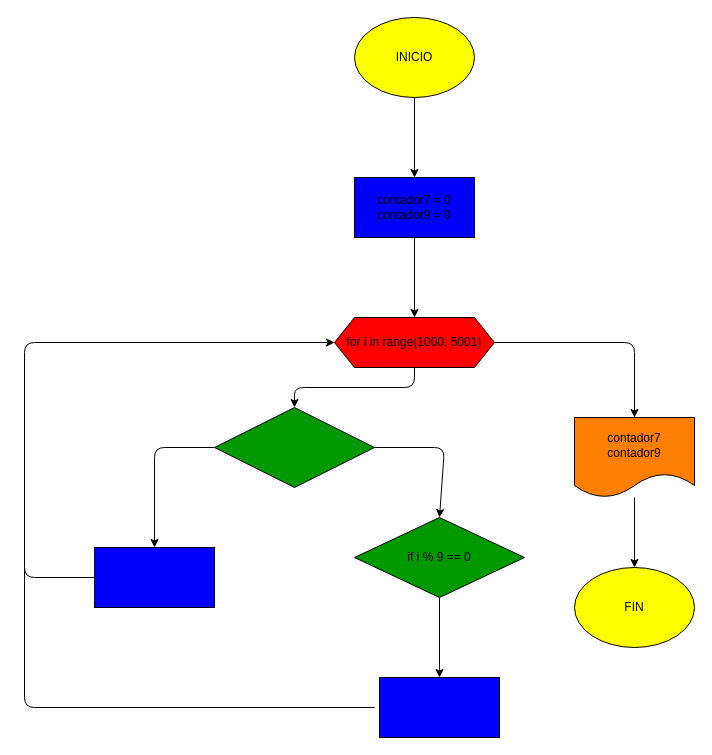
Image size: 712x755. Some labels were removed from this diagram. Here are the shapes that lost their labels. From the top down, the centre of each, then its label:
At (294,447): "if i % 7 == 0".
At (154,577): "contador7 = contador7 + 1".
At (439,707): "contador9 = contador9 + 1".
